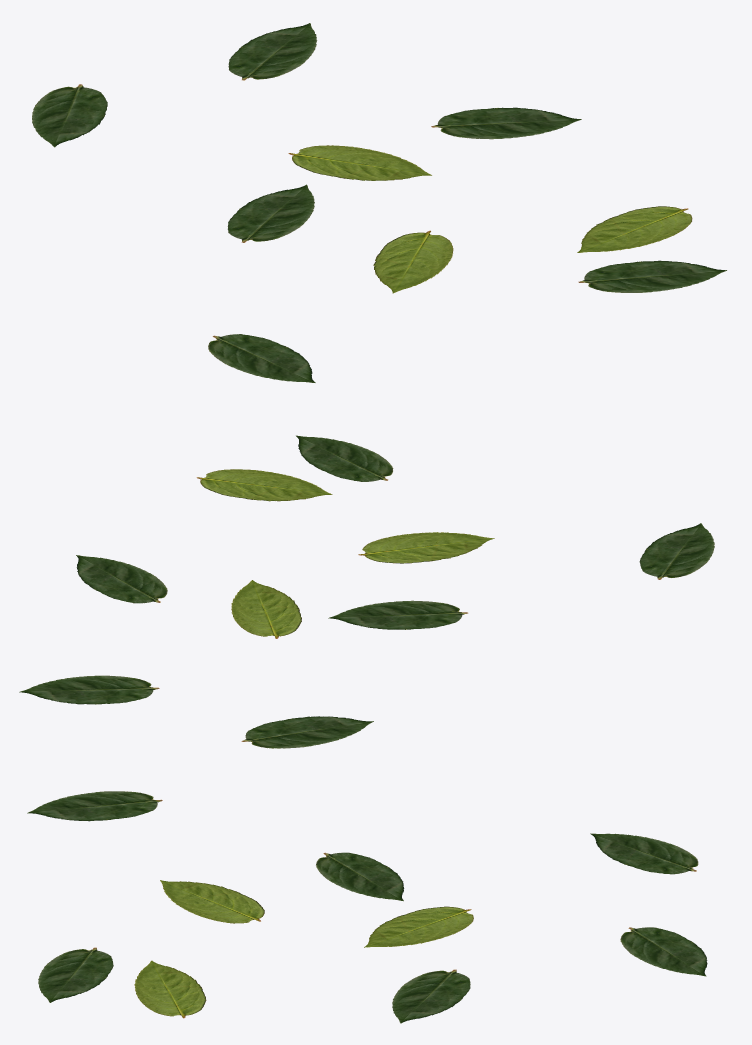
Rendered from Leaves.fbx.
3 renders of one model, top to bottom at view 1: azimuth 30°, elevation 25°; view 2: azimuth 150°, elevation 25°; view 3: azimuth 270°, elevation 25°, orthographic. The views are drawn at different scales.
Visible parts, largest first — view 1: Leaves; view 2: Leaves; view 3: Leaves.
Part boxes in pixels (x1=…): Leaves: x1=32, y1=23, x2=726, y2=382; Leaves: x1=19, y1=435, x2=714, y2=748; Leaves: x1=27, y1=791, x2=707, y2=1023.
Size of the model in its own units: 0.5462 by 1.13e-08 by 0.6804.
